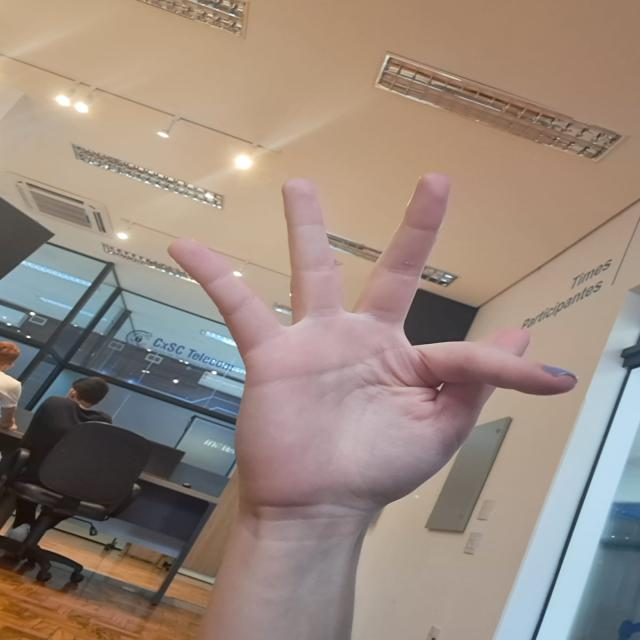F: (136, 154, 587, 538)
